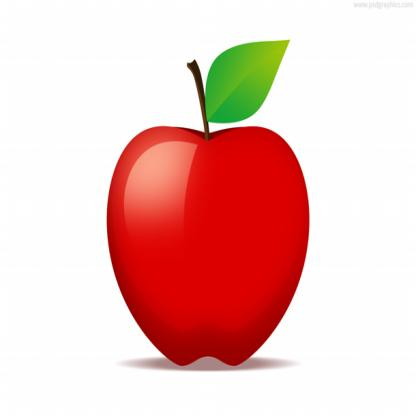apple: (97, 123, 320, 372)
